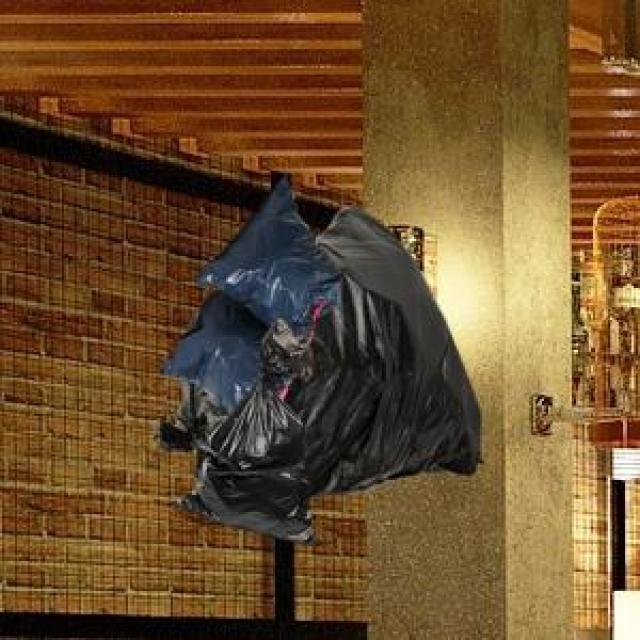waste: (161, 176, 480, 541)
